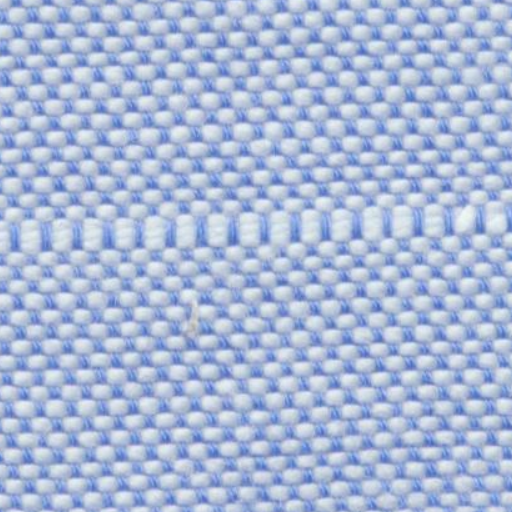TuoSha: (12, 186, 500, 275)
